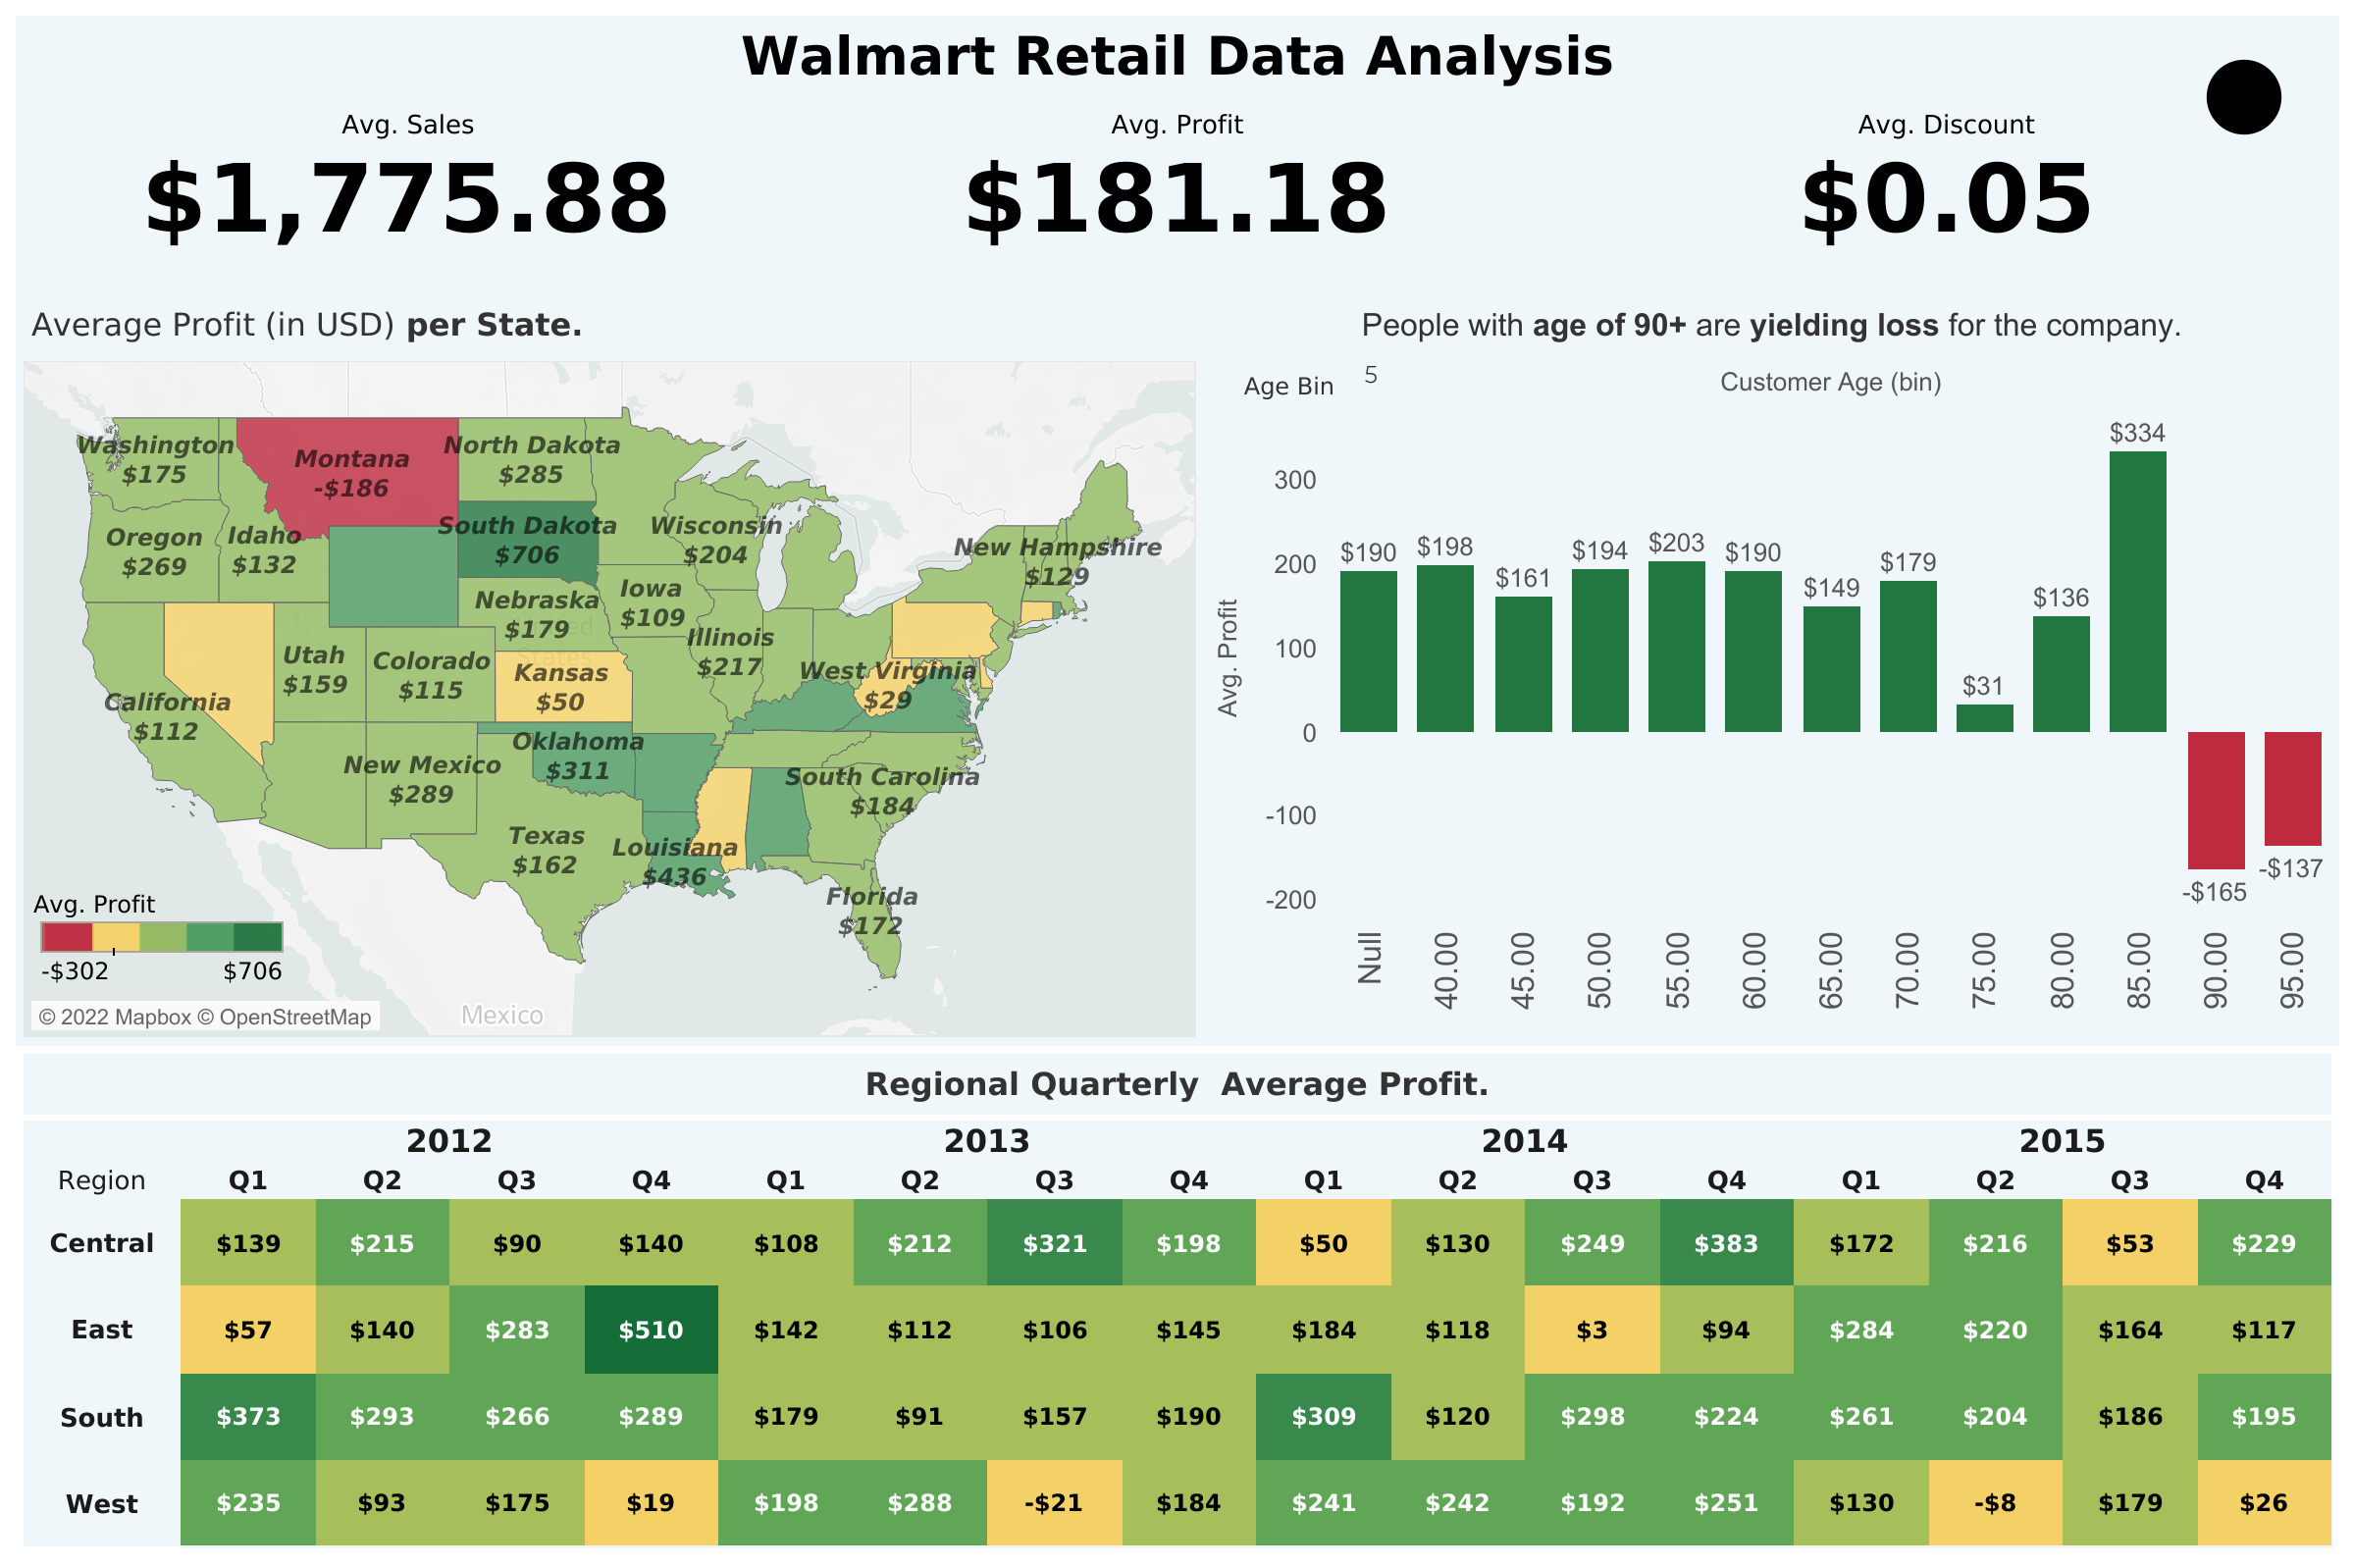

What the dashboard file says about the page in this screenshot:
{"tool":"tableau","page":{"name":"Walmart Retail Dashboard","canvas":[1200,800],"ordinal":0},"visuals":[{"type":"text","box":[8,8,1184,41]},{"type":"worksheet","title":"Dataset Info","mark":"Shape","box":[1098.5,9.9,89.8,78.2]},{"type":"worksheet","title":"Avg S,P,D","mark":"Automatic","box":[8,49,1184,97]},{"type":"worksheet","title":"State vs Profit","mark":"Multipolygon","box":[8,146,606,386.6]},{"type":"worksheet","title":"Age vs Profit","mark":"Automatic","rows":["Profit"],"cols":["Customer Age (bin)"],"box":[614,146,577.9,386.6]},{"type":"parameter","param":"[Parameters].[Parameter 1]","box":[621,181.2,115.2,30.7]},{"type":"legend","title":"State vs Profit","param":"[federated.0szdbqd18g8hh81d36yqz1jjm81f].[avg:Profit:qk]","box":[17,449,132,54]},{"type":"worksheet","title":"Regional Profit","mark":"Square","rows":["Region"],"cols":["Order Date","Order Date"],"box":[8,532.6,1184,259.4]}]}

Visuals, with their boxes in screenshot pixels (x1, y1, x2, y2), scaled from the page's 1200x800 canvas onto the 2353x1568 screenshot:
text: select_region(16, 16, 2337, 96)
"Dataset Info" worksheet (Shape marks): select_region(2154, 20, 2330, 173)
"Avg S,P,D" worksheet: select_region(16, 96, 2337, 287)
"State vs Profit" worksheet (Multipolygon marks): select_region(16, 287, 1204, 1044)
"Age vs Profit" worksheet: select_region(1204, 287, 2337, 1044)
parameter: select_region(1218, 355, 1443, 415)
"State vs Profit" legend: select_region(33, 880, 292, 986)
"Regional Profit" worksheet (Square marks): select_region(16, 1044, 2337, 1552)
